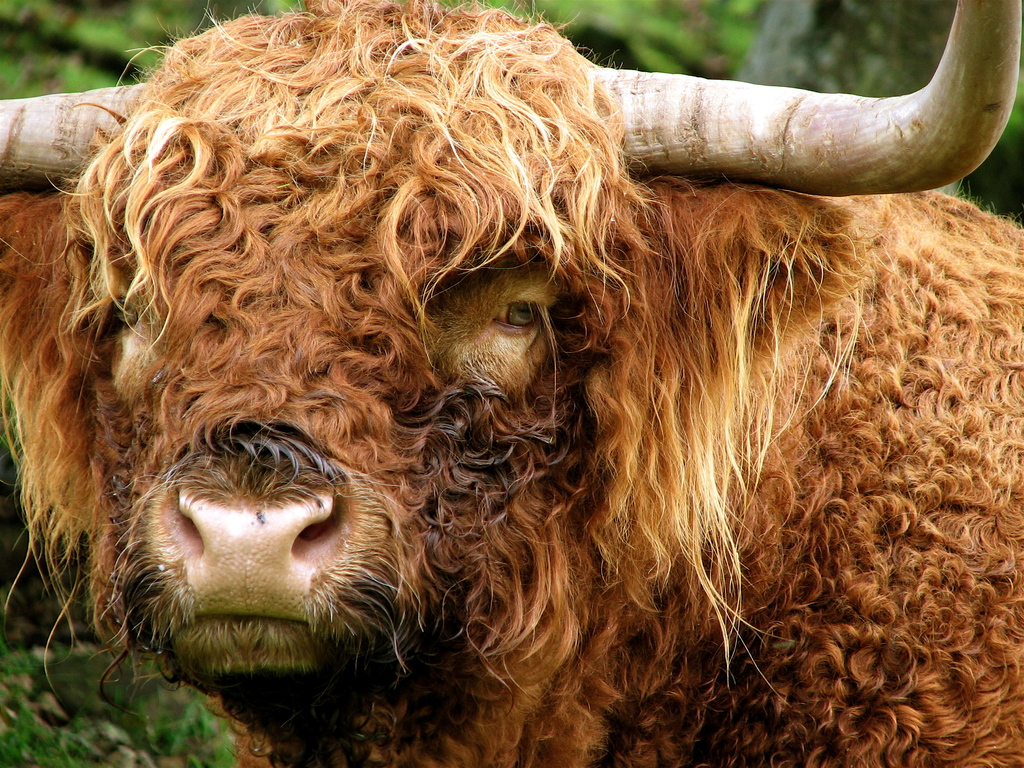Tree: (627, 0, 958, 87)
